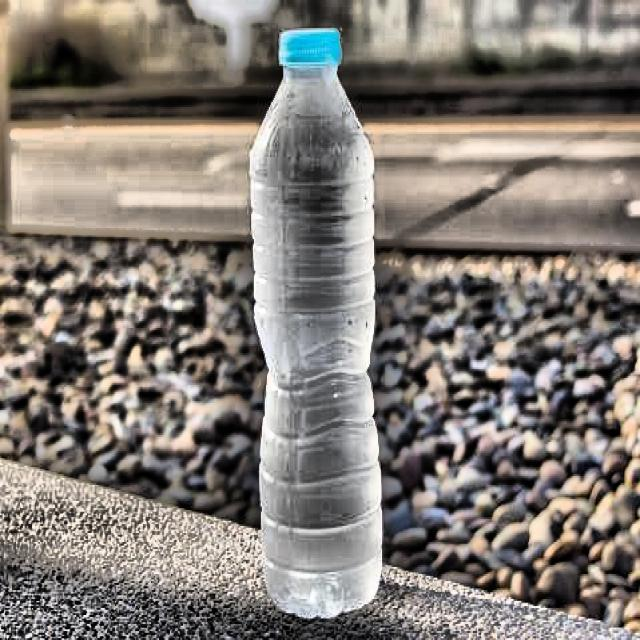Bottles: (231, 24, 409, 626)
